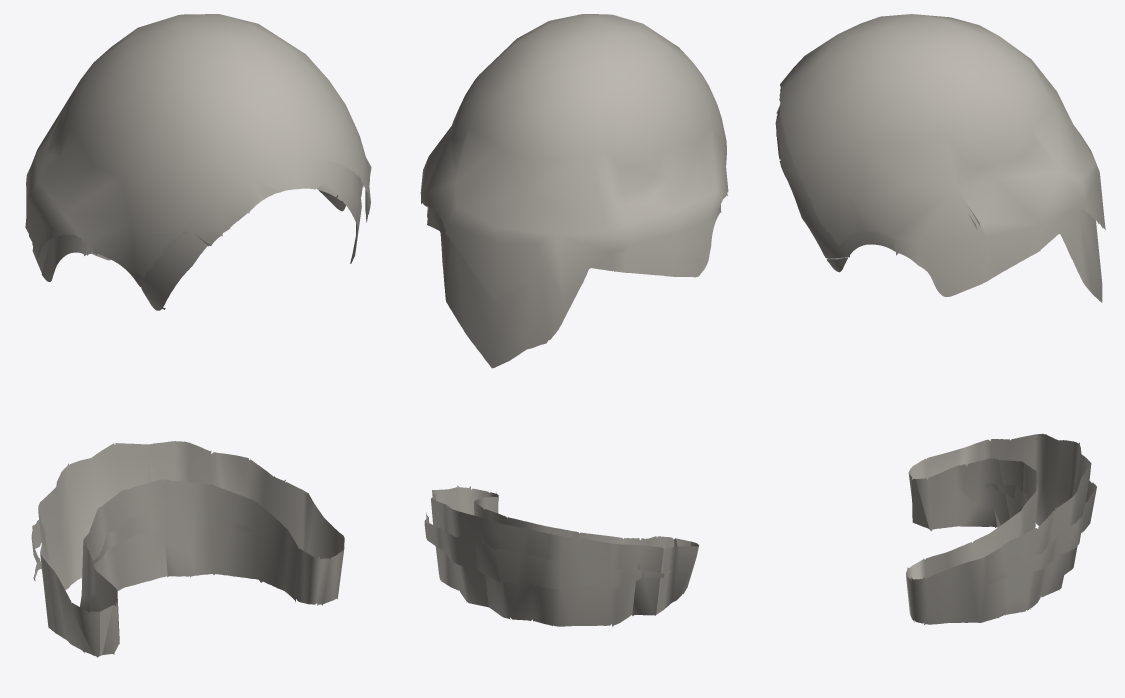
The model's file is toc_dai_edits.mid.glb.
The picture shows the model from 3 angles, left to right: view 1: azimuth 30°, elevation 25°; view 2: azimuth 150°, elevation 25°; view 3: azimuth 270°, elevation 25°; orthographic projection. The views are drawn at different scales.
Parts seen in each view (by area): view 1: toc_dai_edits; view 2: toc_dai_edits; view 3: toc_dai_edits.
Boxes of the visible parts, x1,y1,x2,y2 form: toc_dai_edits: [25, 14, 371, 657]; toc_dai_edits: [420, 14, 728, 626]; toc_dai_edits: [775, 14, 1105, 624].
Size of the model in its own units: 0.2382 by 0.4667 by 0.241.
Materials: 1 (1 with a texture image).
